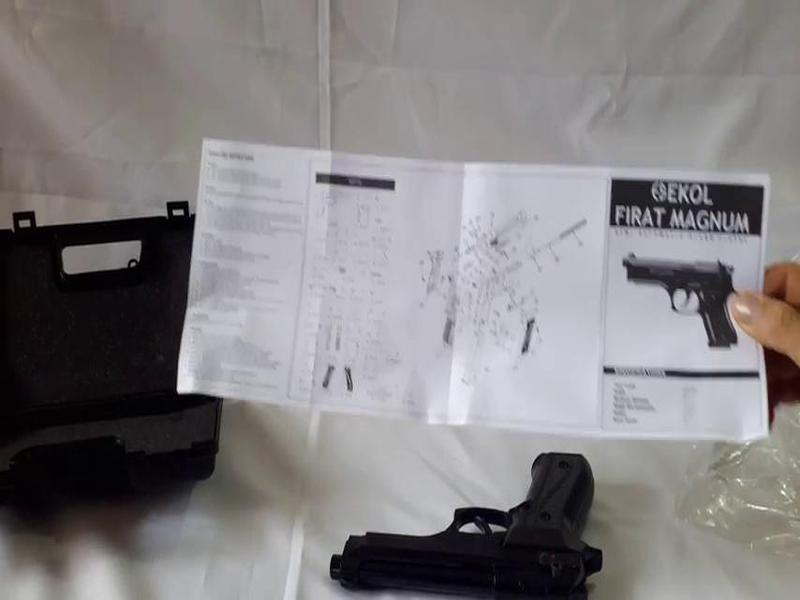Pistola: (288, 425, 660, 589)
